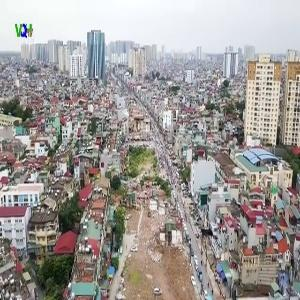drone: (190, 216, 227, 253)
